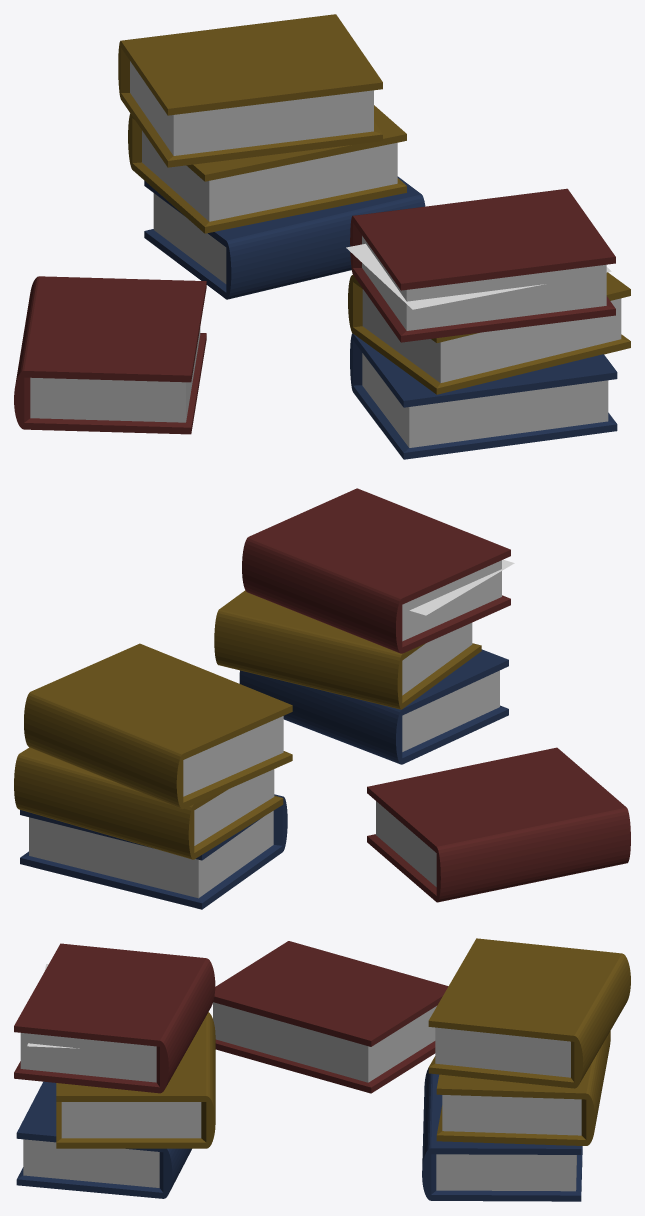
The model's file is book_stack.glb.
3 views of the same model, one above another, from view 1: azimuth 30°, elevation 25°; view 2: azimuth 150°, elevation 25°; view 3: azimuth 270°, elevation 25° (orthographic). The views are drawn at different scales.
Parts seen in each view (by area): view 1: Circle.005, Circle.000, Circle.006, Circle.002, Circle.004, Circle.003, Circle.001, Plane; view 2: Circle.005, Circle.006, Circle.000, Circle.001, Circle.004, Circle.003, Circle.002, Plane; view 3: Circle.006, Circle.005, Circle.000, Circle.001, Circle.004, Circle.003, Circle.002.
Part boxes in pixels (x1=…): Circle.005: x1=118, y1=14, x2=382, y2=167; Circle.000: x1=350, y1=188, x2=615, y2=342; Circle.006: x1=14, y1=276, x2=206, y2=434; Circle.002: x1=350, y1=333, x2=617, y2=459; Circle.004: x1=128, y1=105, x2=406, y2=233; Circle.003: x1=144, y1=176, x2=425, y2=299; Circle.001: x1=348, y1=272, x2=630, y2=394; Plane: x1=346, y1=243, x2=611, y2=309; Circle.005: x1=24, y1=643, x2=292, y2=809; Circle.006: x1=367, y1=747, x2=630, y2=902; Circle.000: x1=242, y1=488, x2=510, y2=653; Circle.001: x1=214, y1=590, x2=481, y2=709; Circle.004: x1=14, y1=747, x2=283, y2=859; Circle.003: x1=20, y1=794, x2=287, y2=909; Circle.002: x1=239, y1=649, x2=508, y2=764; Plane: x1=409, y1=559, x2=514, y2=615; Circle.006: x1=213, y1=941, x2=448, y2=1093; Circle.005: x1=428, y1=938, x2=630, y2=1088; Circle.000: x1=14, y1=943, x2=215, y2=1093; Circle.001: x1=56, y1=1012, x2=215, y2=1148; Circle.004: x1=436, y1=1031, x2=610, y2=1145; Circle.003: x1=422, y1=1068, x2=582, y2=1201; Circle.002: x1=16, y1=1081, x2=191, y2=1198.
Bounding box in the file's own units: 1.95 × 0.7002 × 2.39.
